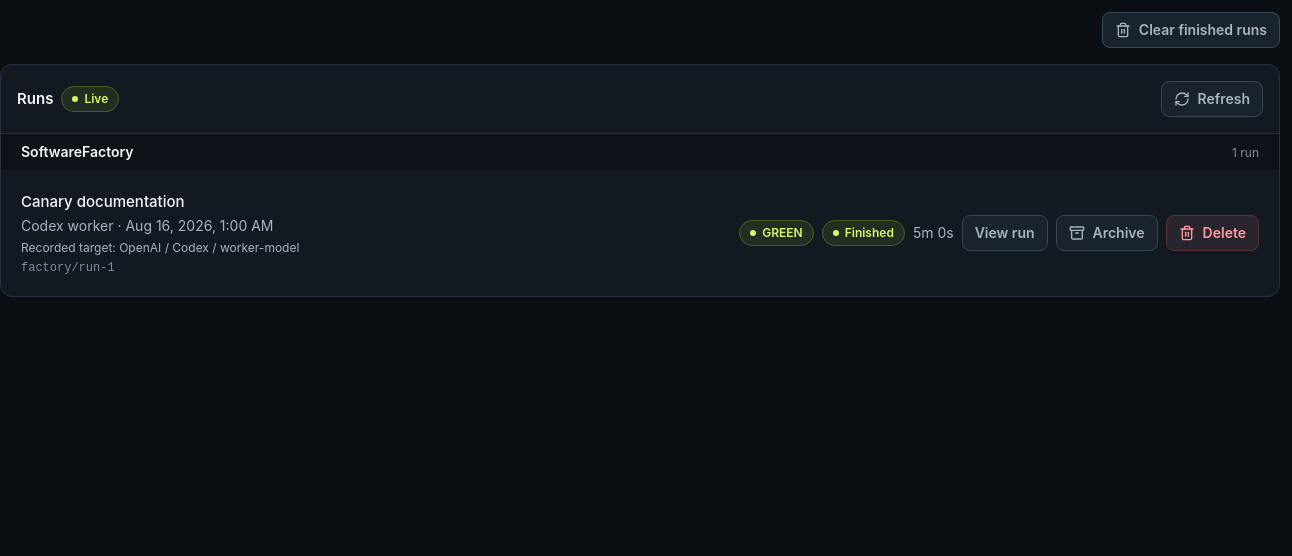
RunsConsole › clears every finished run through the reason-carrying confirm, and reports what was kept
The image size is (1292, 556).
Click the button "Clear finished runs" at (1191, 30), box x1=1102 y1=12 x2=1280 y2=48
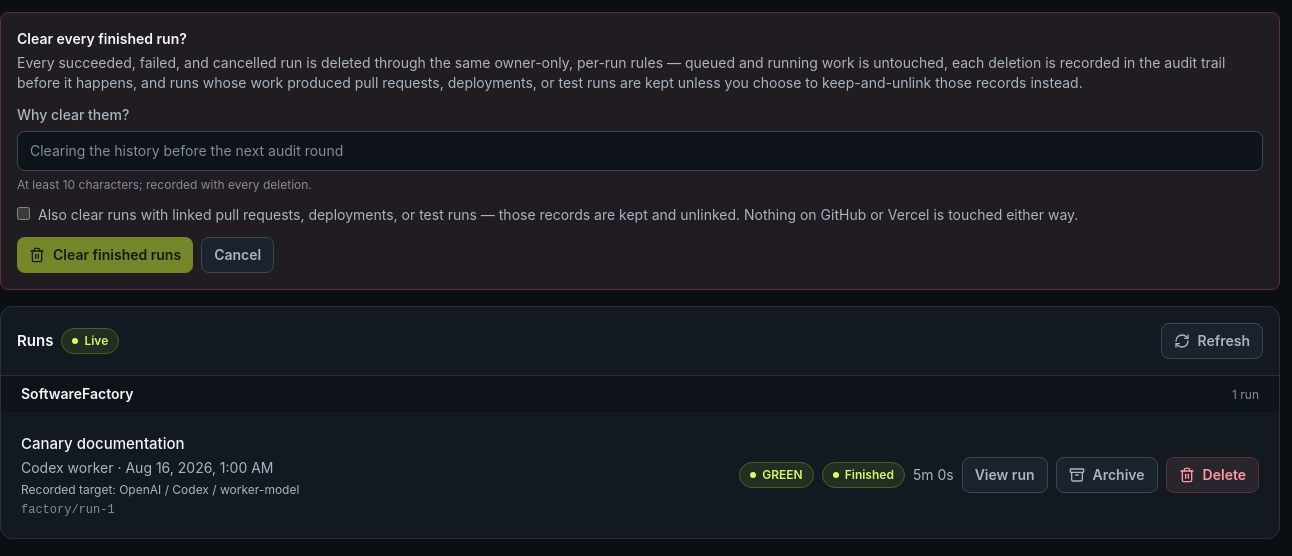
Expected: the text "queued and running work is untouched" is shown, x1=17 y1=54 x2=1225 y2=91
Expected: the button "Clear finished runs" is disabled, x1=17 y1=237 x2=193 y2=273
Type "Clearing history before the audit" into the field labelled "Why clear them?" at (640, 151), box x1=17 y1=131 x2=1263 y2=171
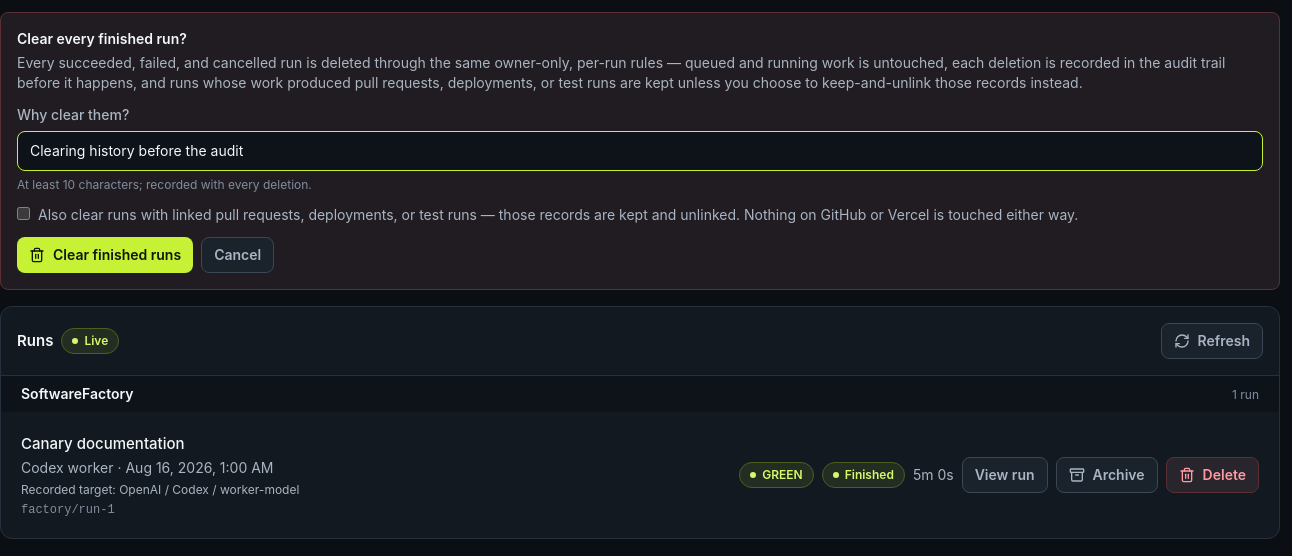
Click the button "Clear finished runs" at (105, 255), box x1=17 y1=237 x2=193 y2=273
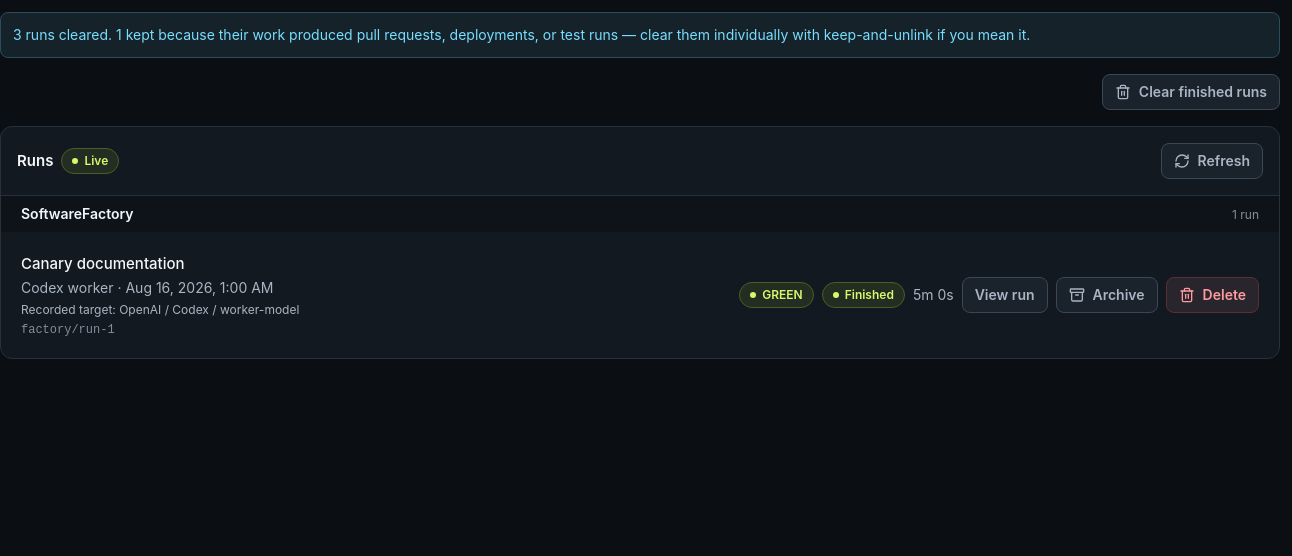
Expected: the text "3 runs cleared. 1 kept because their work produced" is shown, x1=13 y1=26 x2=1030 y2=43
